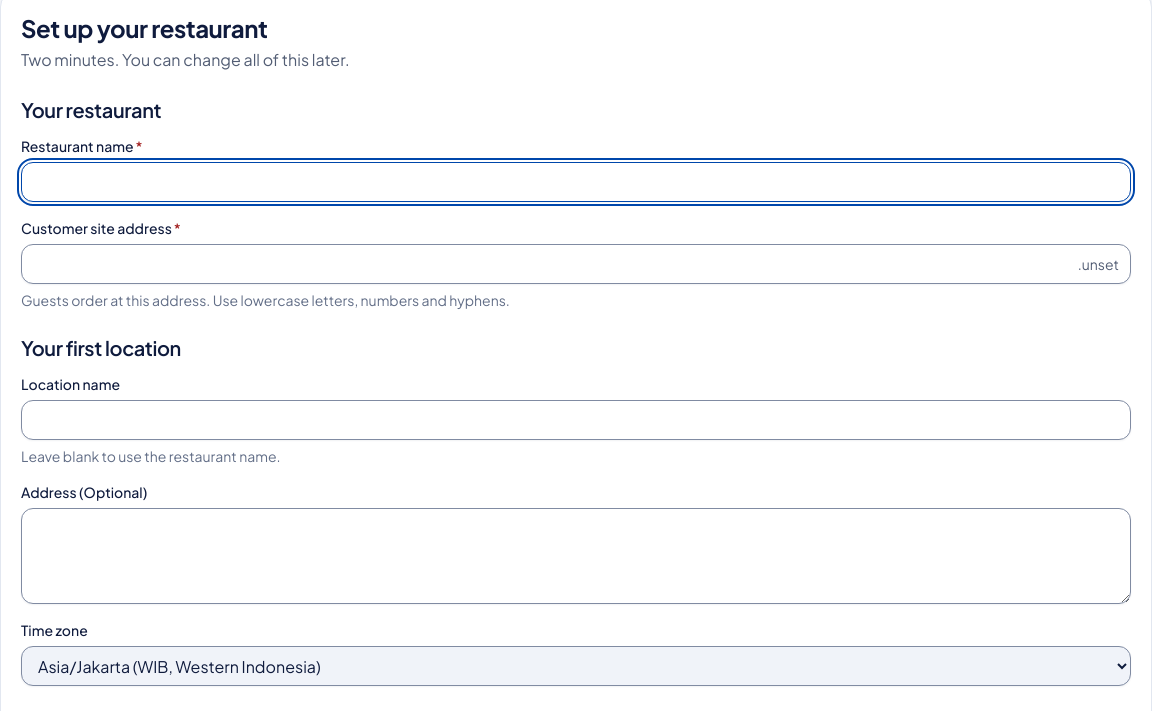
Test: create restaurant › shows the cap message from the server
Type "Warung" into the field labelled "Restaurant name*".
click(576, 182); type("Warung")  # box [21,162,1131,202]
(page scrolled)
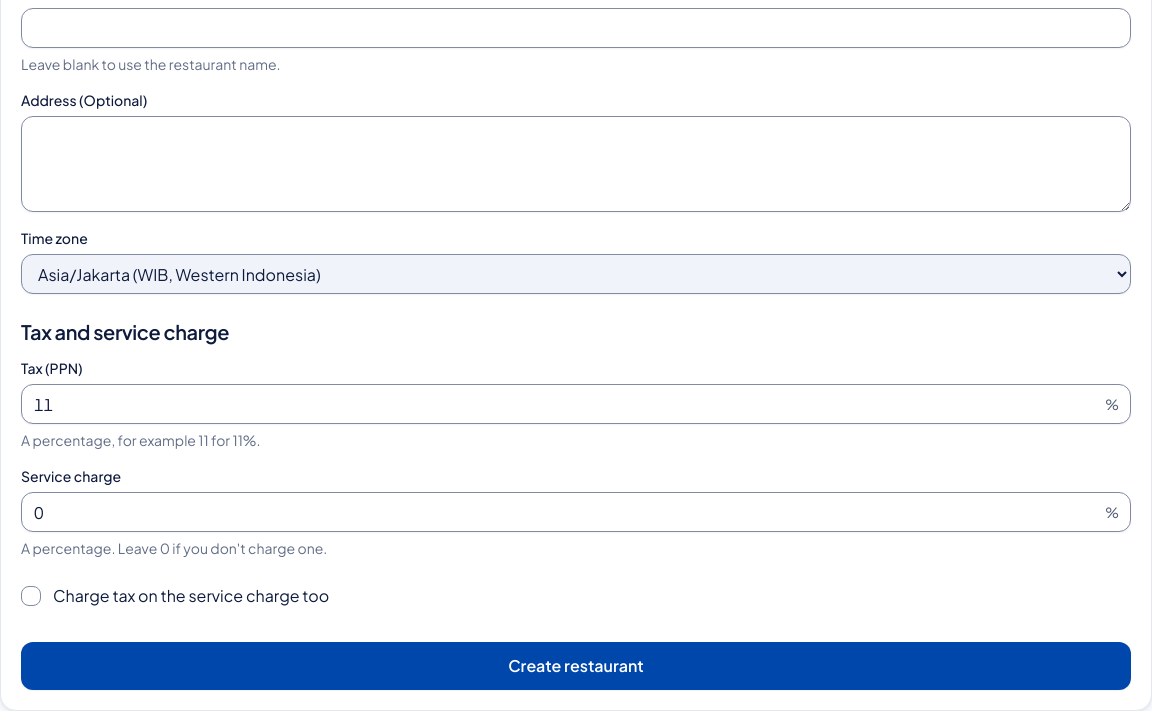
Click the button "Create restaurant".
click(576, 666)  # box [21,642,1131,690]
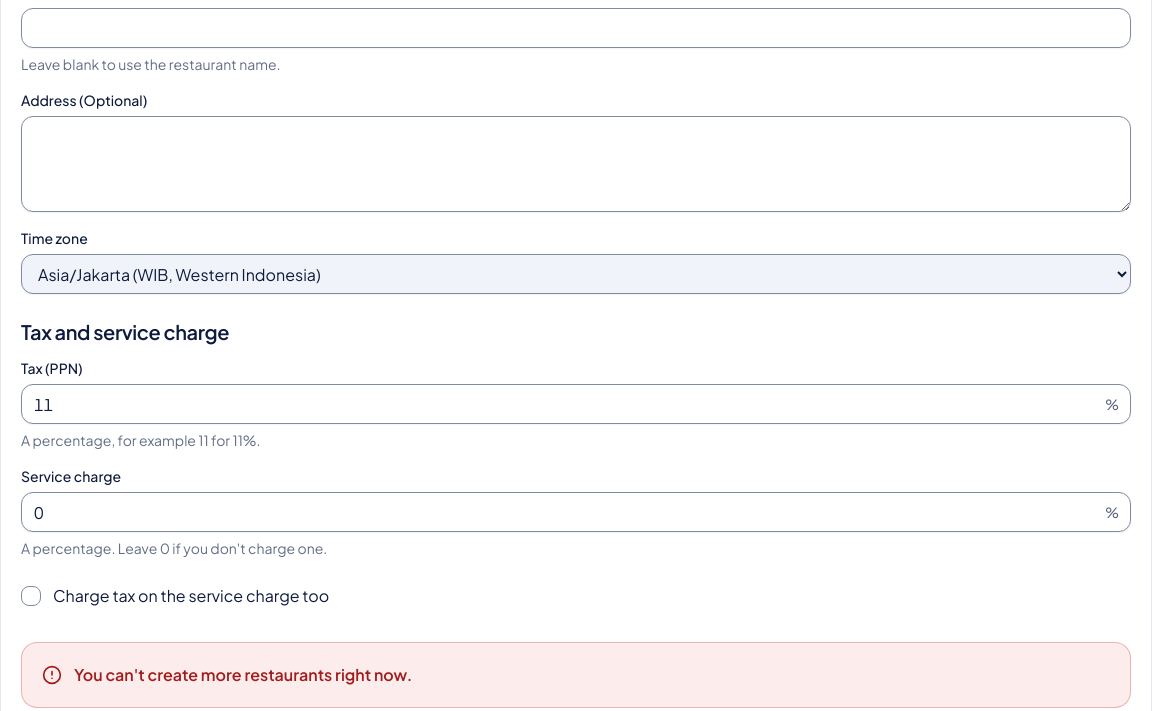
Result: the text "You can't create more restaurants right now." is shown at [74,663,412,687]
